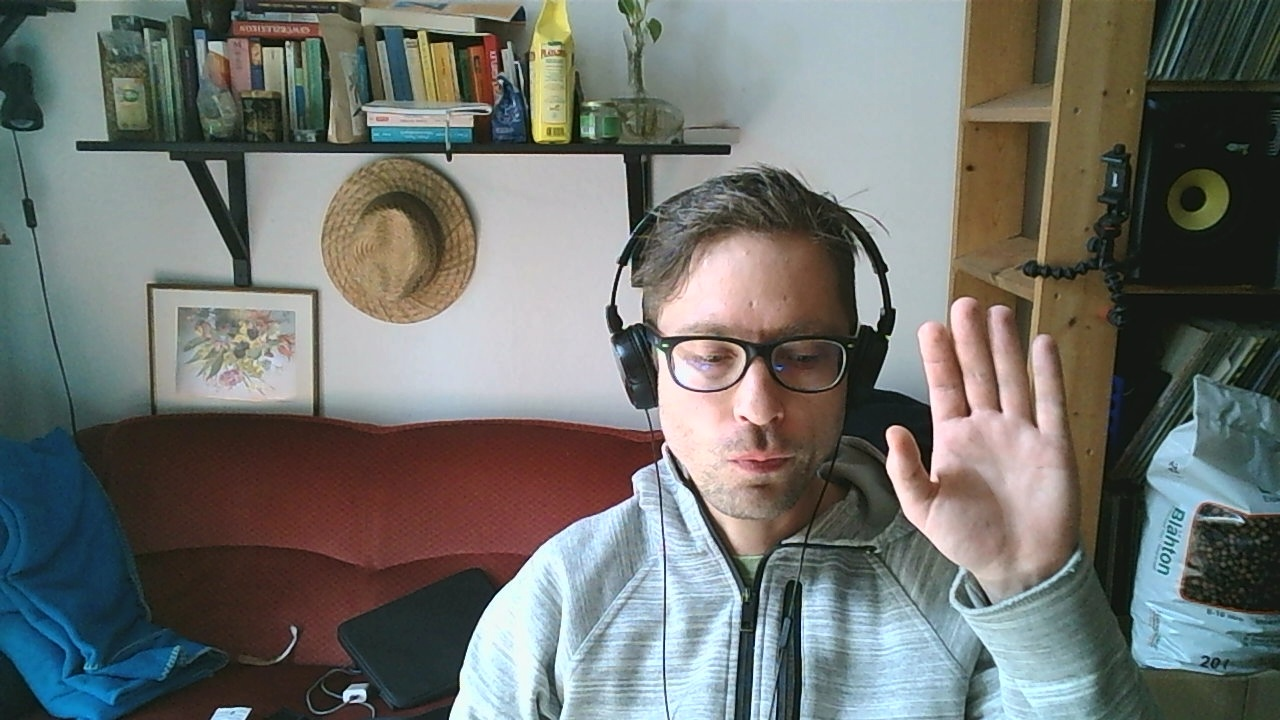hello: (881, 296, 1082, 587)
